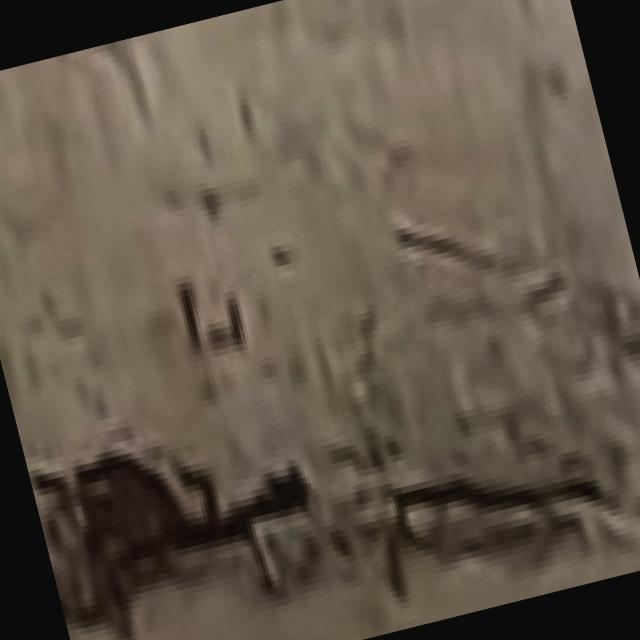crack: (83, 416, 317, 624), (386, 382, 612, 582)
